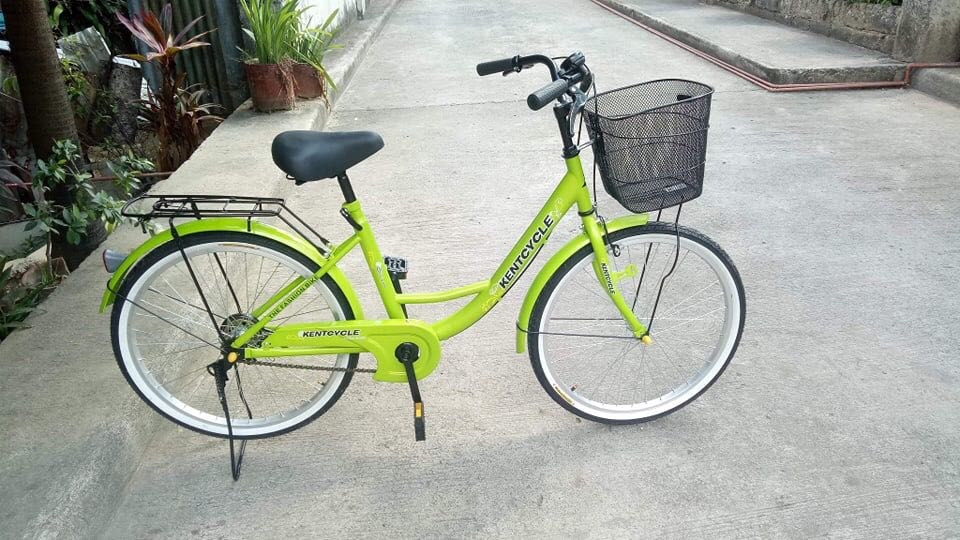bike: (121, 54, 749, 442)
plant: (234, 1, 298, 112)
tree: (1, 1, 104, 251)
